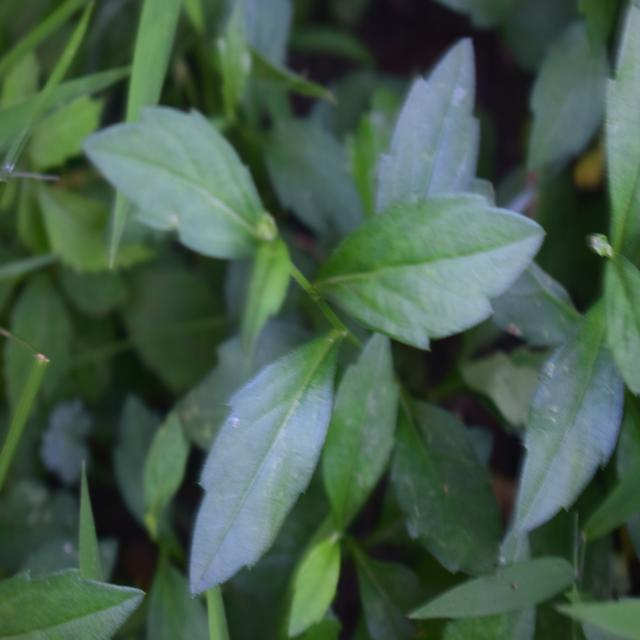Indian aster: (97, 73, 510, 536)
